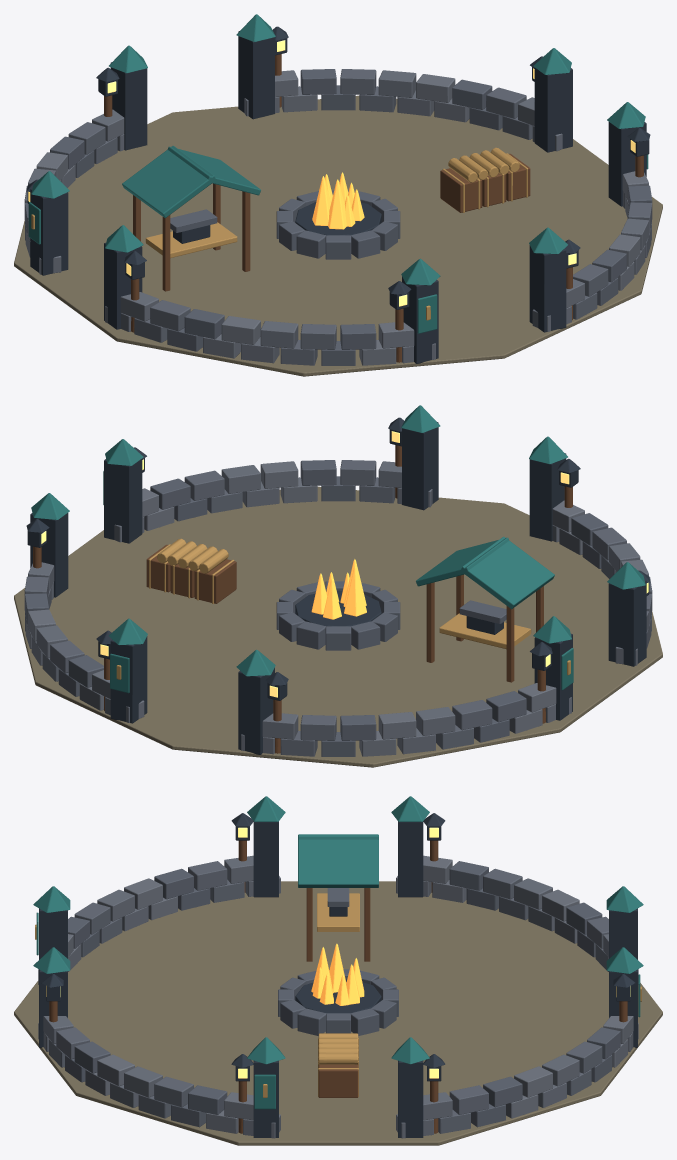
File: hearthhold.glb
3 views of the same model, one above another, from view 1: azimuth 30°, elevation 25°; view 2: azimuth 150°, elevation 25°; view 3: azimuth 270°, elevation 25° (orthographic). The views are drawn at different scales.
Parts seen in each view (by area): view 1: _MeshInstance3D_3.001, _MeshInstance3D_407.002, _MeshInstance3D_306.001, _MeshInstance3D_317.001, _MeshInstance3D_286.001, _MeshInstance3D_338.001, _MeshInstance3D_326.001, _MeshInstance3D_346.001, _MeshInstance3D_298.001, _MeshInstance3D_277.001, _MeshInstance3D_408.002, _MeshInstance3D_409.002 (+56 smaller); view 2: _MeshInstance3D_3.001, _MeshInstance3D_407.002, _MeshInstance3D_298.001, _MeshInstance3D_346.001, _MeshInstance3D_286.001, _MeshInstance3D_277.001, _MeshInstance3D_326.001, _MeshInstance3D_317.001, _MeshInstance3D_306.001, _MeshInstance3D_408.002, _MeshInstance3D_368.001, _MeshInstance3D_338.001 (+55 smaller); view 3: _MeshInstance3D_3.001, _MeshInstance3D_408.002, _MeshInstance3D_338.001, _MeshInstance3D_346.001, _MeshInstance3D_306.001, _MeshInstance3D_392.002, _MeshInstance3D_368.001, _MeshInstance3D_409.002, _MeshInstance3D_277.001, _MeshInstance3D_326.001, _MeshInstance3D_298.001, _MeshInstance3D_286.001 (+53 smaller).
Boxes of the visible parts, box(x1,y1,x2,y2) form: _MeshInstance3D_3.001: box(14, 95, 662, 376); _MeshInstance3D_407.002: box(122, 145, 215, 218); _MeshInstance3D_306.001: box(534, 67, 572, 152); _MeshInstance3D_317.001: box(238, 31, 274, 119); _MeshInstance3D_286.001: box(529, 245, 566, 332); _MeshInstance3D_338.001: box(30, 189, 68, 275); _MeshInstance3D_326.001: box(110, 62, 147, 150); _MeshInstance3D_346.001: box(104, 242, 142, 329); _MeshInstance3D_298.001: box(608, 122, 646, 206); _MeshInstance3D_277.001: box(402, 276, 438, 363); _MeshInstance3D_408.002: box(167, 146, 260, 195); _MeshInstance3D_409.002: box(145, 222, 237, 258); _MeshInstance3D_3.001: box(14, 486, 662, 767); _MeshInstance3D_407.002: box(461, 536, 554, 609); _MeshInstance3D_298.001: box(104, 458, 142, 543); _MeshInstance3D_346.001: box(608, 580, 646, 666); _MeshInstance3D_286.001: box(402, 422, 438, 510); _MeshInstance3D_277.001: box(529, 453, 566, 541); _MeshInstance3D_326.001: box(238, 667, 274, 754); _MeshInstance3D_317.001: box(110, 636, 147, 723); _MeshInstance3D_306.001: box(30, 513, 68, 597); _MeshInstance3D_408.002: box(416, 537, 509, 586); _MeshInstance3D_368.001: box(295, 590, 381, 626); _MeshInstance3D_338.001: box(534, 633, 572, 720); _MeshInstance3D_3.001: box(14, 881, 662, 1145); _MeshInstance3D_408.002: box(298, 834, 378, 887); _MeshInstance3D_338.001: box(398, 821, 423, 897); _MeshInstance3D_346.001: box(253, 821, 278, 897); _MeshInstance3D_306.001: box(398, 1060, 423, 1137); _MeshInstance3D_392.002: box(318, 1064, 358, 1097); _MeshInstance3D_368.001: box(295, 979, 381, 1013); _MeshInstance3D_409.002: box(317, 893, 359, 931); _MeshInstance3D_277.001: box(39, 908, 67, 959); _MeshInstance3D_326.001: box(609, 908, 637, 959); _MeshInstance3D_298.001: box(253, 1060, 278, 1137); _MeshInstance3D_286.001: box(39, 969, 67, 1047).
Size of the model in its own units: 17.12 by 3.36 by 17.99.
